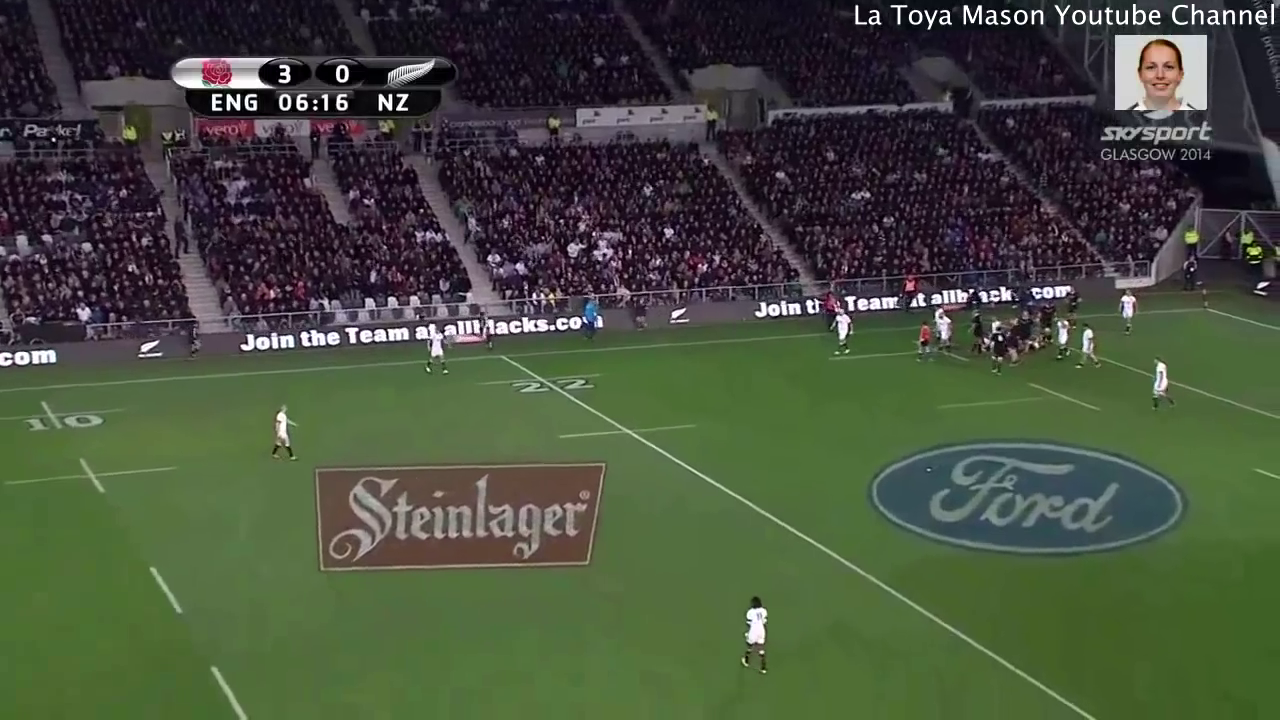10_metre: (2, 453, 181, 502), (1, 401, 125, 432)
corner_flag: (1198, 284, 1211, 315)
player: (735, 592, 775, 679), (267, 401, 305, 467), (1148, 354, 1173, 416), (1081, 320, 1109, 375), (423, 326, 450, 376), (1116, 288, 1139, 337), (912, 322, 936, 367), (833, 307, 854, 356), (1036, 298, 1055, 339), (987, 328, 1005, 371), (1057, 316, 1073, 362), (970, 311, 983, 354), (1063, 283, 1077, 319), (940, 318, 951, 353), (933, 303, 945, 335)
ruck: (993, 321, 1053, 359)
